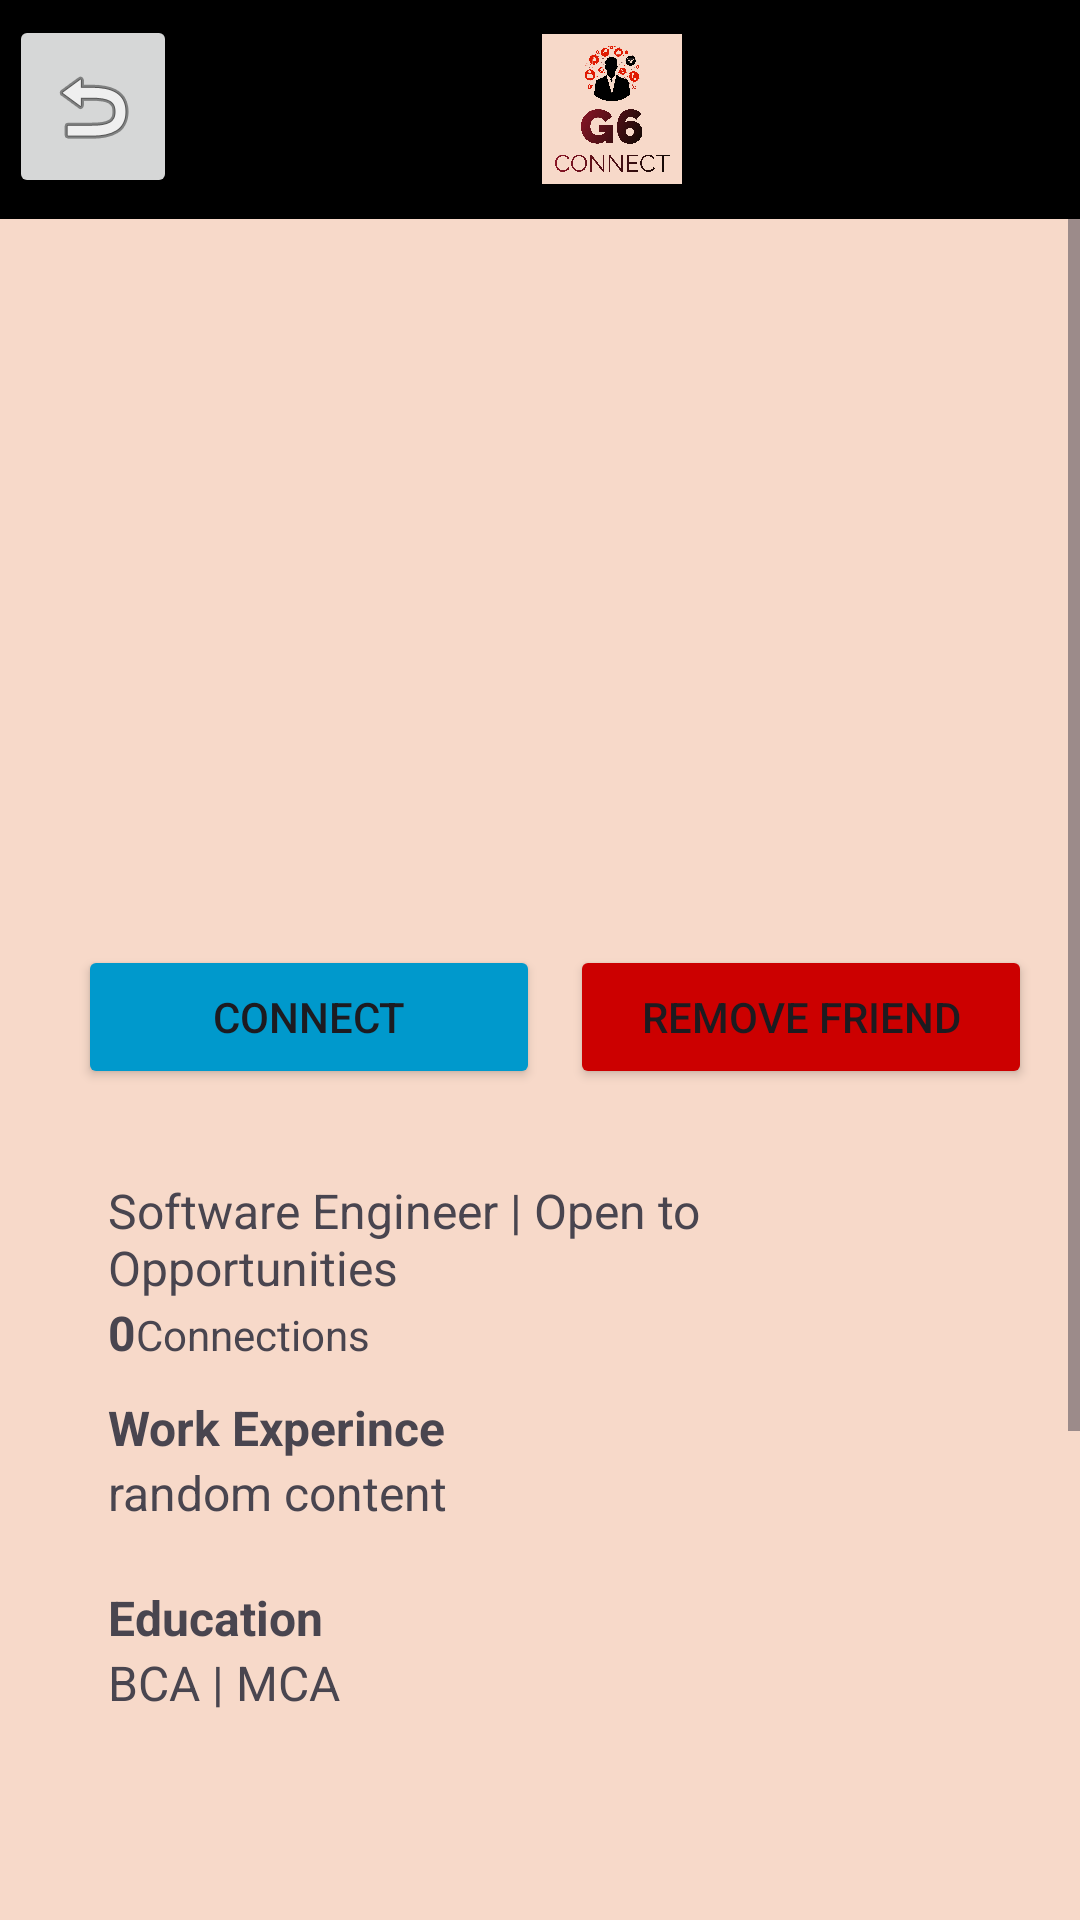

Point at icon controls on the screen. Image size 1080x1920, points as (x=x, y=y).
back: (x=93, y=106)
